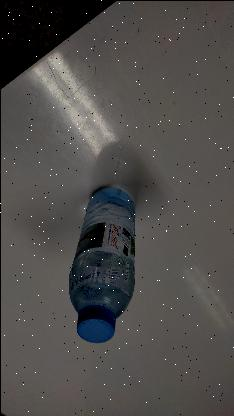Plastic Bottle: (66, 180, 138, 346)
